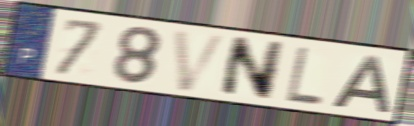7: (54, 17, 106, 77)
8: (113, 24, 164, 85)
A: (328, 53, 393, 114)
L: (283, 44, 324, 108)
N: (217, 34, 287, 102)
V: (171, 28, 232, 94)
